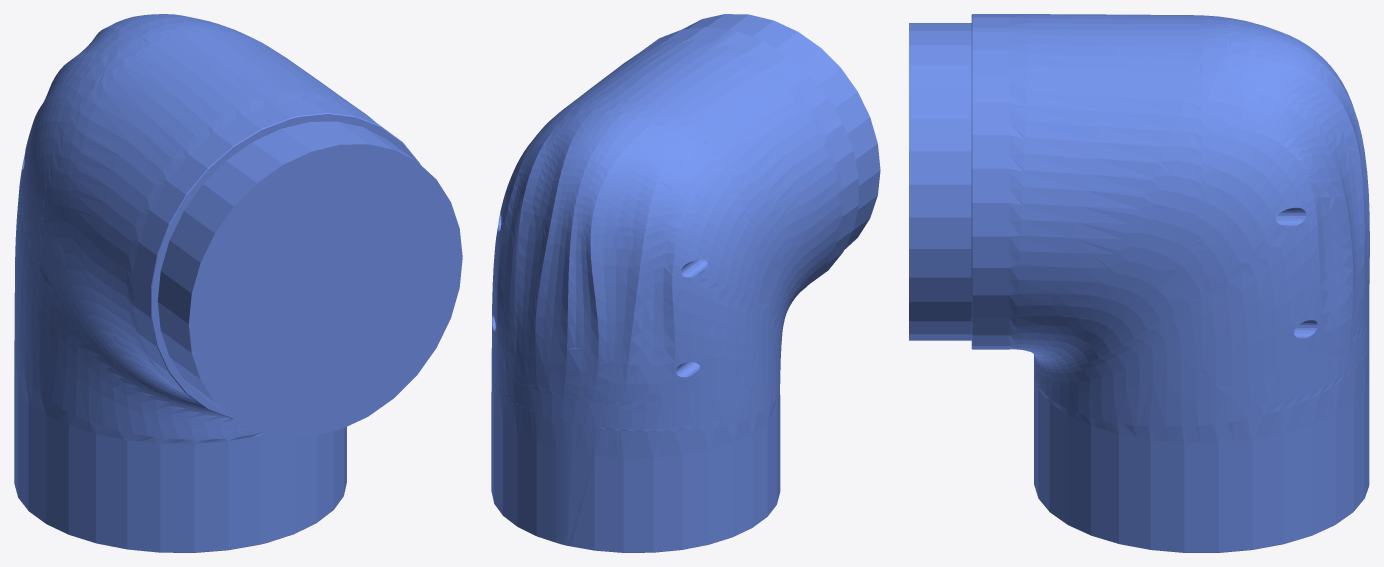
The picture shows the model from 3 angles, left to right: view 1: azimuth 30°, elevation 25°; view 2: azimuth 150°, elevation 25°; view 3: azimuth 270°, elevation 25°; orthographic projection. The views are drawn at different scales.
Parts seen in each view (by area): view 1: Link1; view 2: Link1; view 3: Link1.
Boxes of the visible parts, bbox=[...] form: Link1: bbox=[14, 14, 462, 552]; Link1: bbox=[491, 14, 880, 552]; Link1: bbox=[909, 14, 1369, 552].
Size of the model in its own units: 0.089 by 0.1222 by 0.1326.
